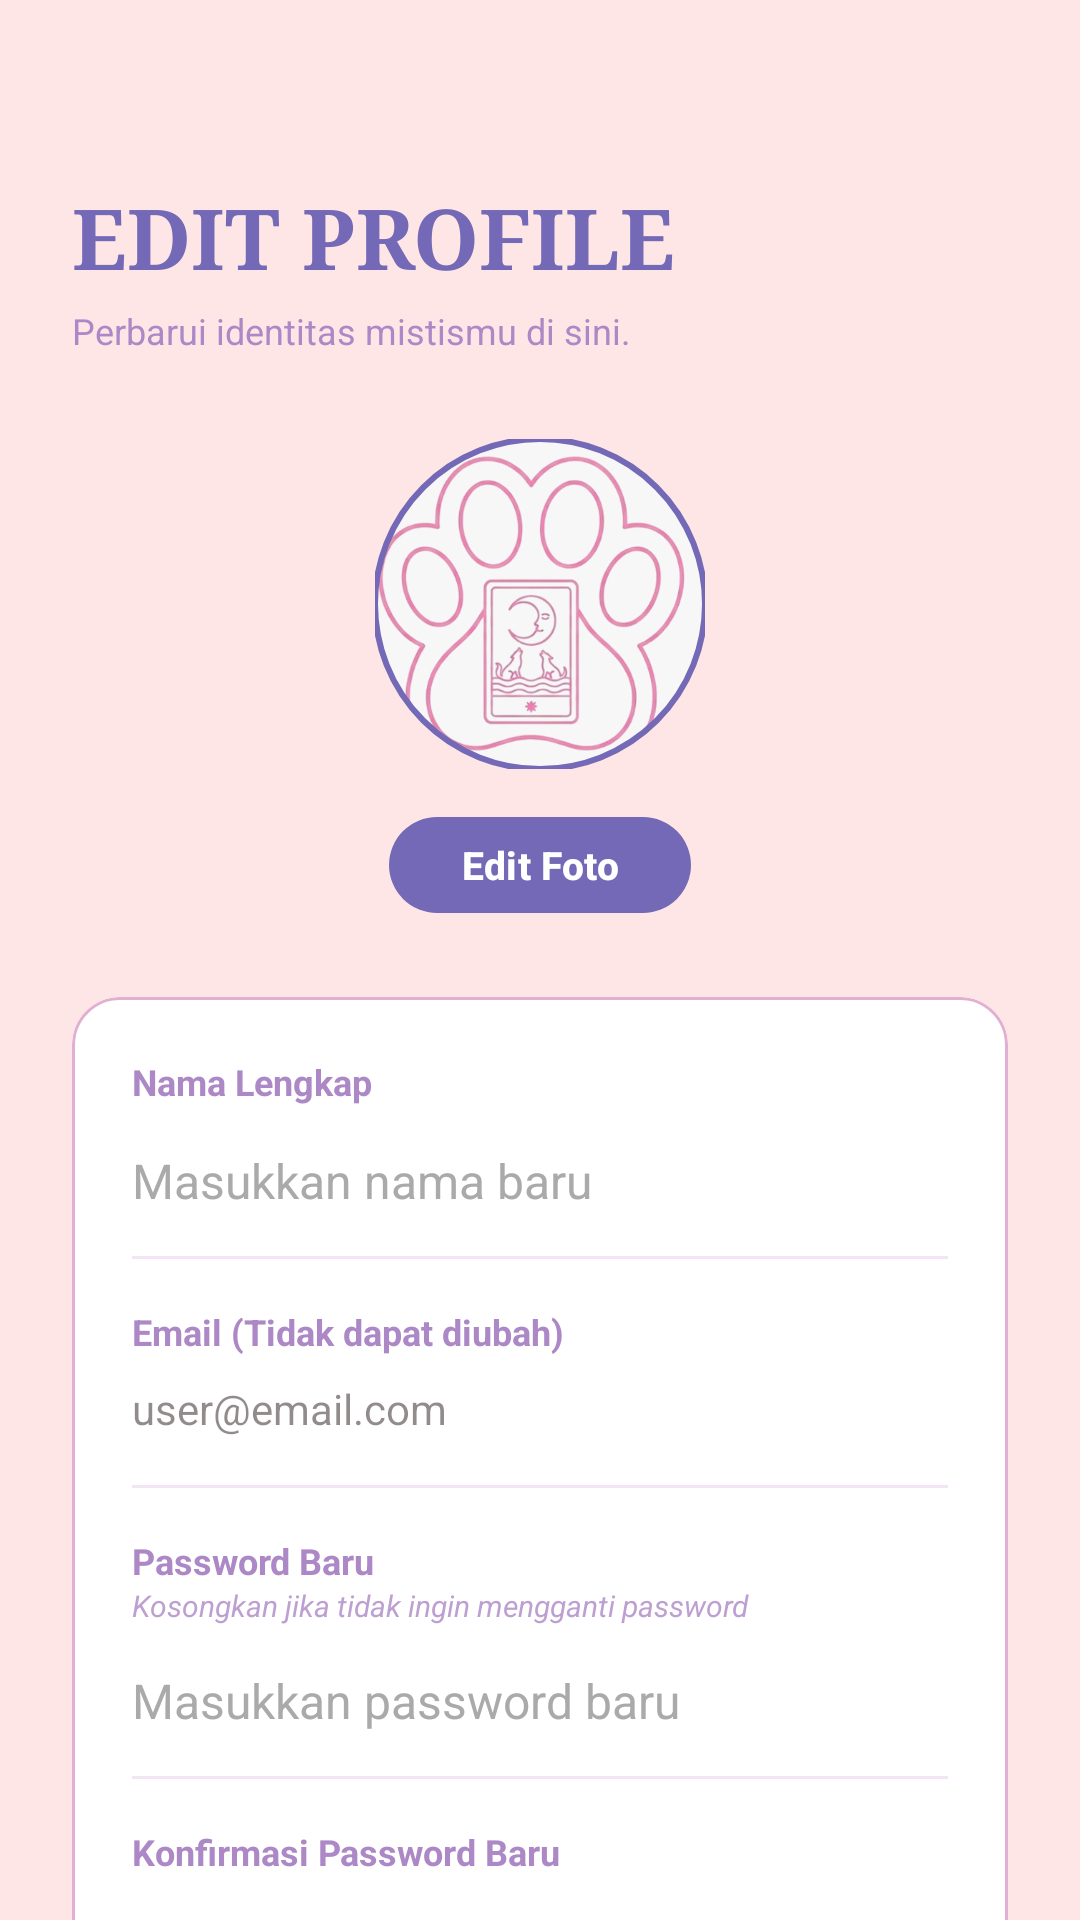

Icons on this 1080x1920 Android screen, each with the point to tap as [x,y]:
meow: [540,604]
